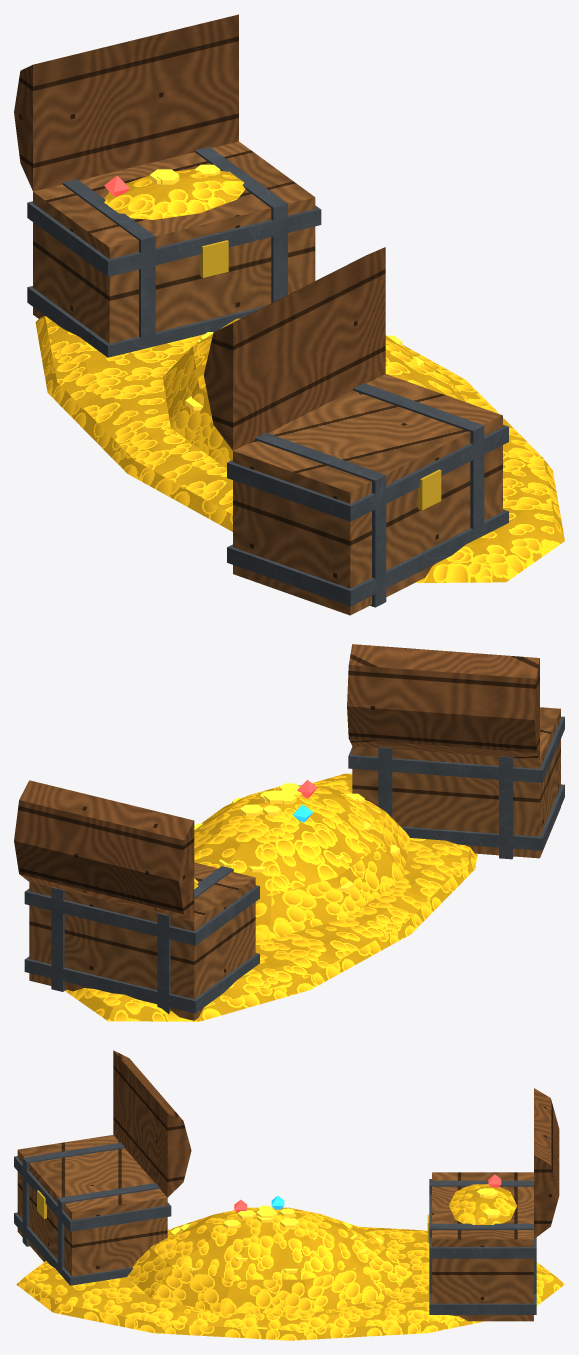
The model's file is treasury_1.glb.
3 views of the same model, one above another, from view 1: azimuth 30°, elevation 25°; view 2: azimuth 150°, elevation 25°; view 3: azimuth 270°, elevation 25° (orthographic). The views are drawn at different scales.
Visible parts, largest first — view 1: base_mesh; view 2: base_mesh; view 3: base_mesh.
Part boxes in pixels (x1=…): base_mesh: x1=14, y1=14, x2=564, y2=615; base_mesh: x1=14, y1=644, x2=564, y2=1021; base_mesh: x1=14, y1=1050, x2=564, y2=1340.
Size of the model in its own units: 1.05 by 0.66 by 1.95.
Materials: 8 (4 with a texture image).
